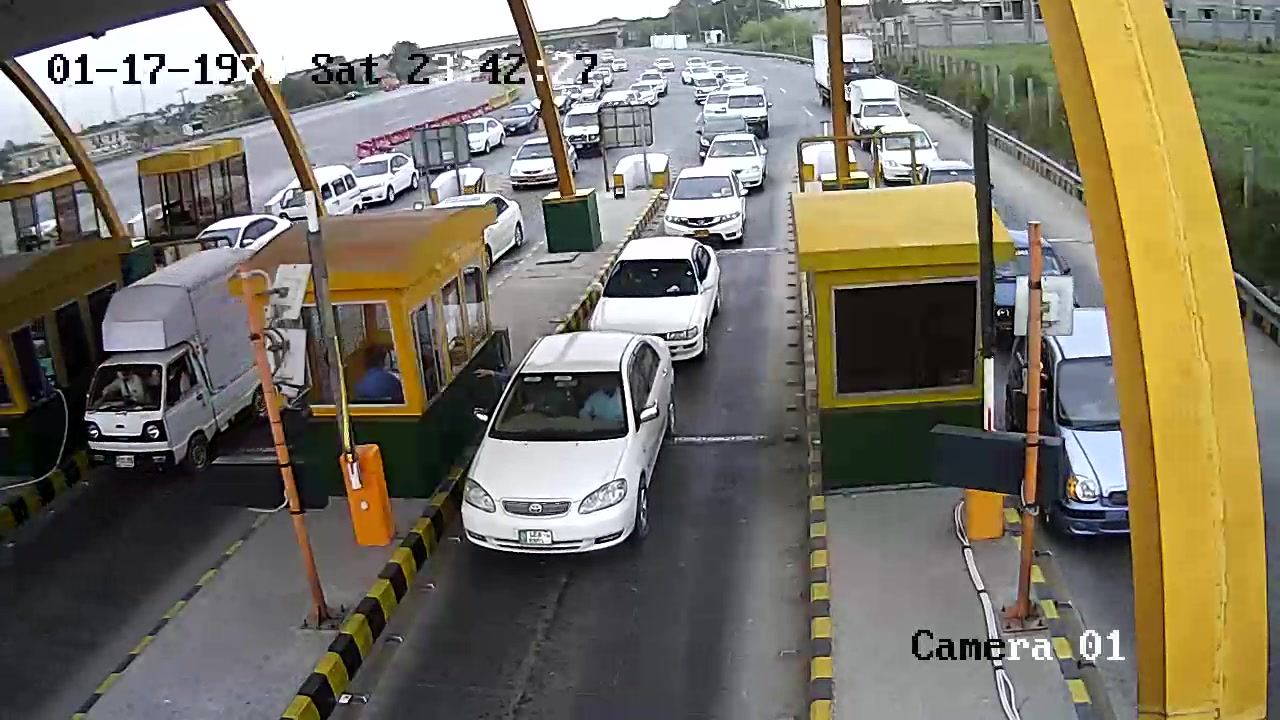F1: (456, 326, 687, 578)
